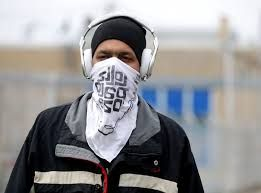with-mask: (84, 34, 150, 116)
